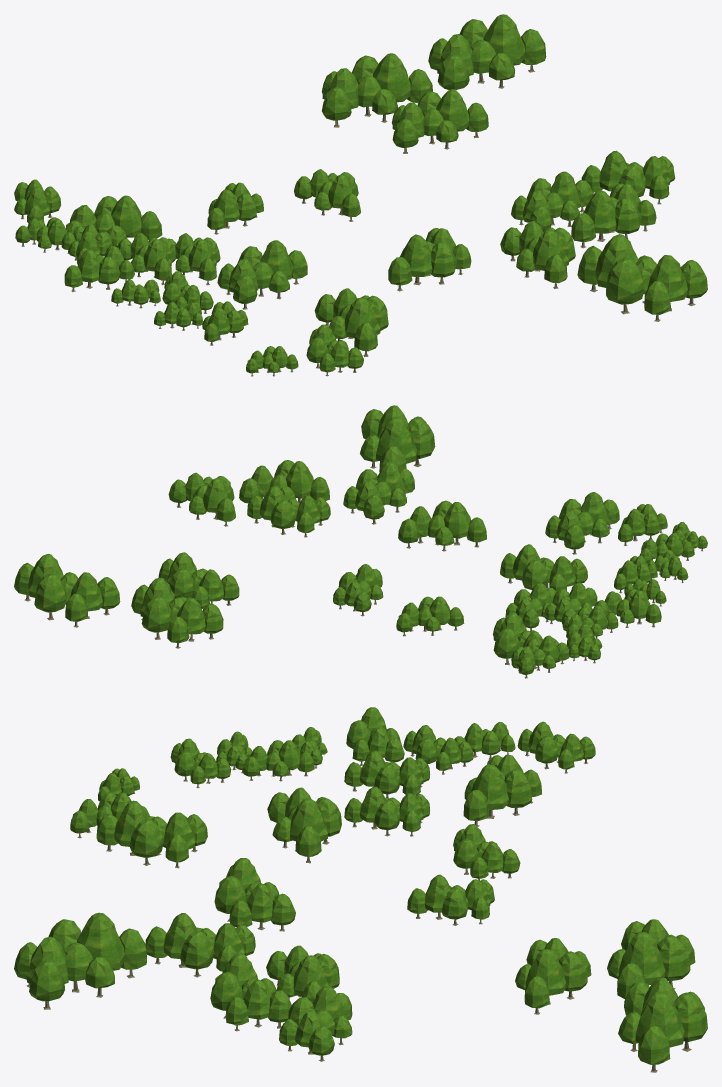
The model's file is MERGED_SM_ENV_KNVLLG_Tree_Distance_A5.mo.fbx.
3 renders of one model, top to bottom at view 1: azimuth 30°, elevation 25°; view 2: azimuth 150°, elevation 25°; view 3: azimuth 270°, elevation 25°, orthographic. The views are drawn at different scales.
Visible parts, largest first — view 1: MERGED_SM_ENV_KNVLLG_Tree_Distance_A5.mo; view 2: MERGED_SM_ENV_KNVLLG_Tree_Distance_A5.mo; view 3: MERGED_SM_ENV_KNVLLG_Tree_Distance_A5.mo.
Part boxes in pixels (box(x1,y1,x2,y2)): MERGED_SM_ENV_KNVLLG_Tree_Distance_A5.mo: box(14, 14, 707, 376); MERGED_SM_ENV_KNVLLG_Tree_Distance_A5.mo: box(14, 405, 707, 678); MERGED_SM_ENV_KNVLLG_Tree_Distance_A5.mo: box(14, 707, 707, 1072).
Bounding box in the file's own units: 453 × 45.9 × 411.
